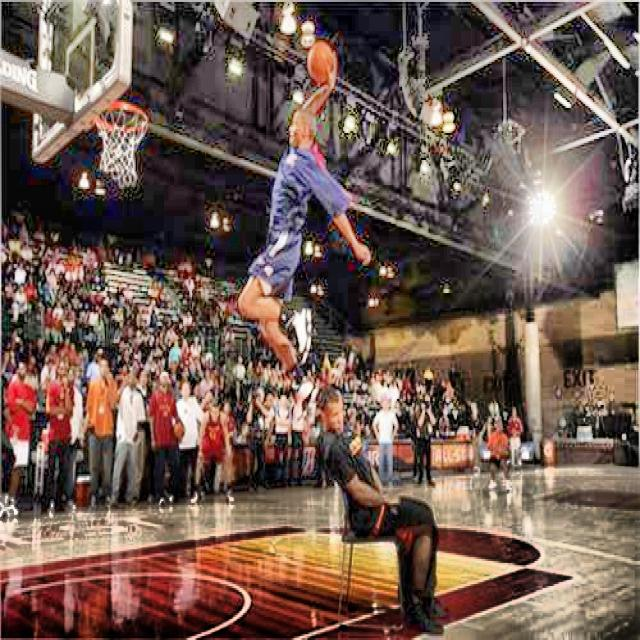rim: (96, 100, 146, 187), (306, 40, 334, 85)
